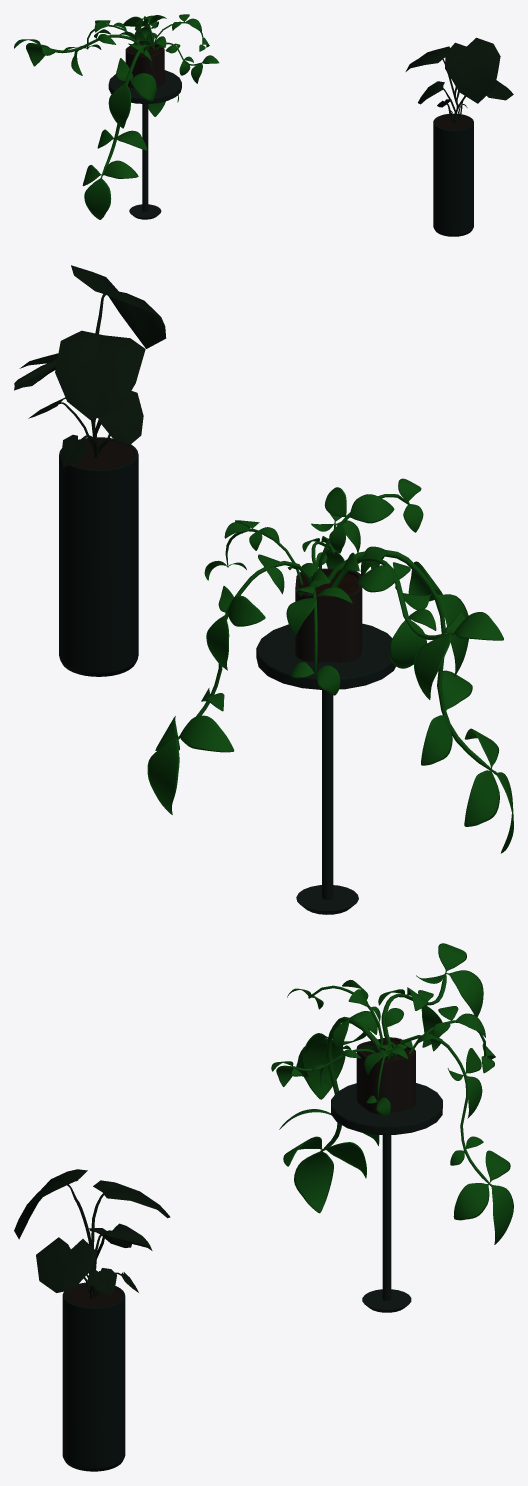
File: pod.obj
3 renders of one model, top to bottom at view 1: azimuth 30°, elevation 25°; view 2: azimuth 150°, elevation 25°; view 3: azimuth 270°, elevation 25°, orthographic. The views are drawn at different scales.
Parts seen in each view (by area): view 1: polySurface491, polySurface515, Monstera_Altas_WB_diff.020, pCylinder5, polySurface506, pCylinder11; view 2: polySurface491, polySurface515, Monstera_Altas_WB_diff.020, pCylinder5, polySurface506, pCylinder11; view 3: polySurface491, polySurface515, Monstera_Altas_WB_diff.020, pCylinder5, polySurface506, pCylinder11.
Boxes of the visible parts, bbox=[...] form: polySurface491: bbox=[14, 14, 219, 219]; polySurface515: bbox=[433, 113, 473, 236]; Monstera_Altas_WB_diff.020: bbox=[405, 37, 513, 123]; pCylinder5: bbox=[108, 70, 181, 219]; polySurface506: bbox=[125, 41, 164, 88]; pCylinder11: bbox=[435, 115, 471, 129]; polySurface491: bbox=[147, 478, 513, 853]; polySurface515: bbox=[59, 437, 138, 676]; Monstera_Altas_WB_diff.020: bbox=[14, 265, 166, 467]; pCylinder5: bbox=[256, 623, 395, 914]; polySurface506: bbox=[295, 568, 362, 662]; pCylinder11: bbox=[72, 440, 134, 469]; polySurface491: bbox=[271, 943, 513, 1244]; polySurface515: bbox=[62, 1282, 125, 1471]; Monstera_Altas_WB_diff.020: bbox=[14, 1169, 170, 1298]; pCylinder5: bbox=[331, 1083, 442, 1312]; polySurface506: bbox=[356, 1037, 415, 1114]; pCylinder11: bbox=[65, 1284, 122, 1307].
Size of the model in its own units: 137 by 72.65 by 104.
